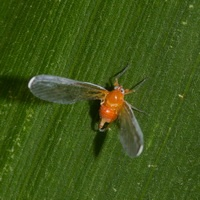insect: (28, 75, 143, 156)
